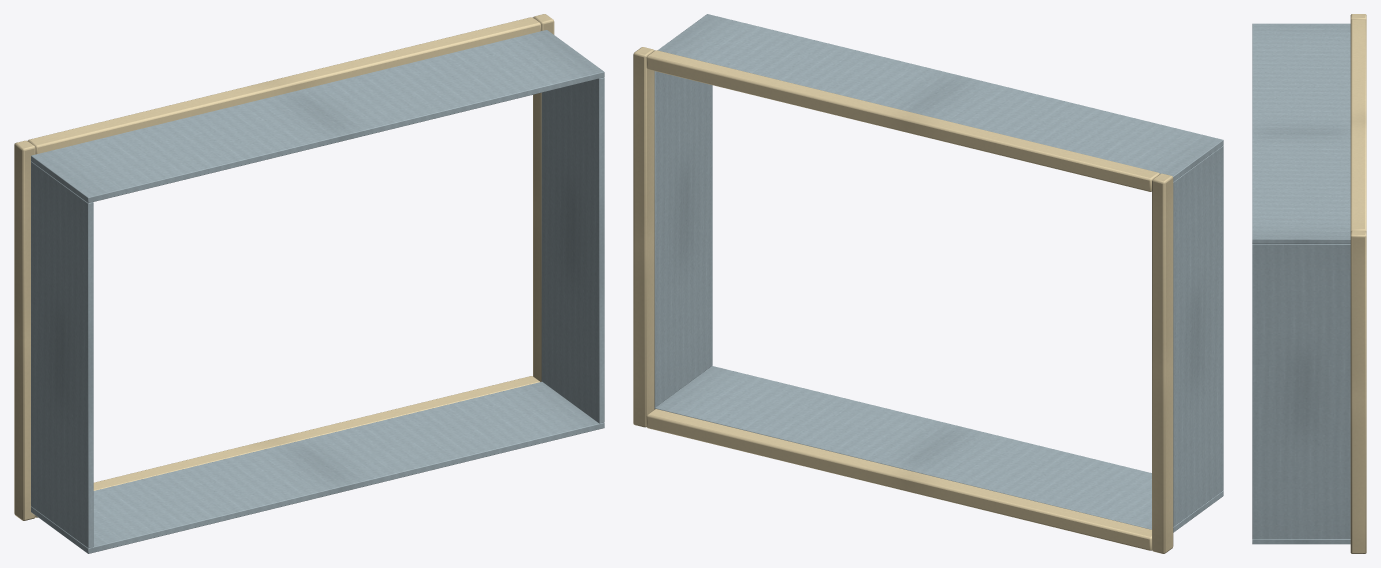
File: 34-back-open-long-window-0.fbx
3 views of the same model, side by side, from view 1: azimuth 30°, elevation 25°; view 2: azimuth 150°, elevation 25°; view 3: azimuth 270°, elevation 25° (orthographic). The views are drawn at different scales.
Visible parts, largest first — view 1: back-open-long-window-0; view 2: back-open-long-window-0; view 3: back-open-long-window-0.
Boxes of the visible parts, left/top/right/bottom form: back-open-long-window-0: left=14, top=14, right=604, bottom=553; back-open-long-window-0: left=633, top=14, right=1223, bottom=553; back-open-long-window-0: left=1252, top=14, right=1366, bottom=553.
Size of the model in its own units: 4840 by 3240 by 1055.
Materials: 1 (1 with a texture image).
